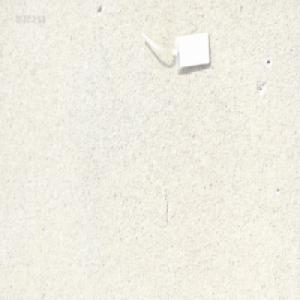LuggageTag: (139, 28, 212, 75)
